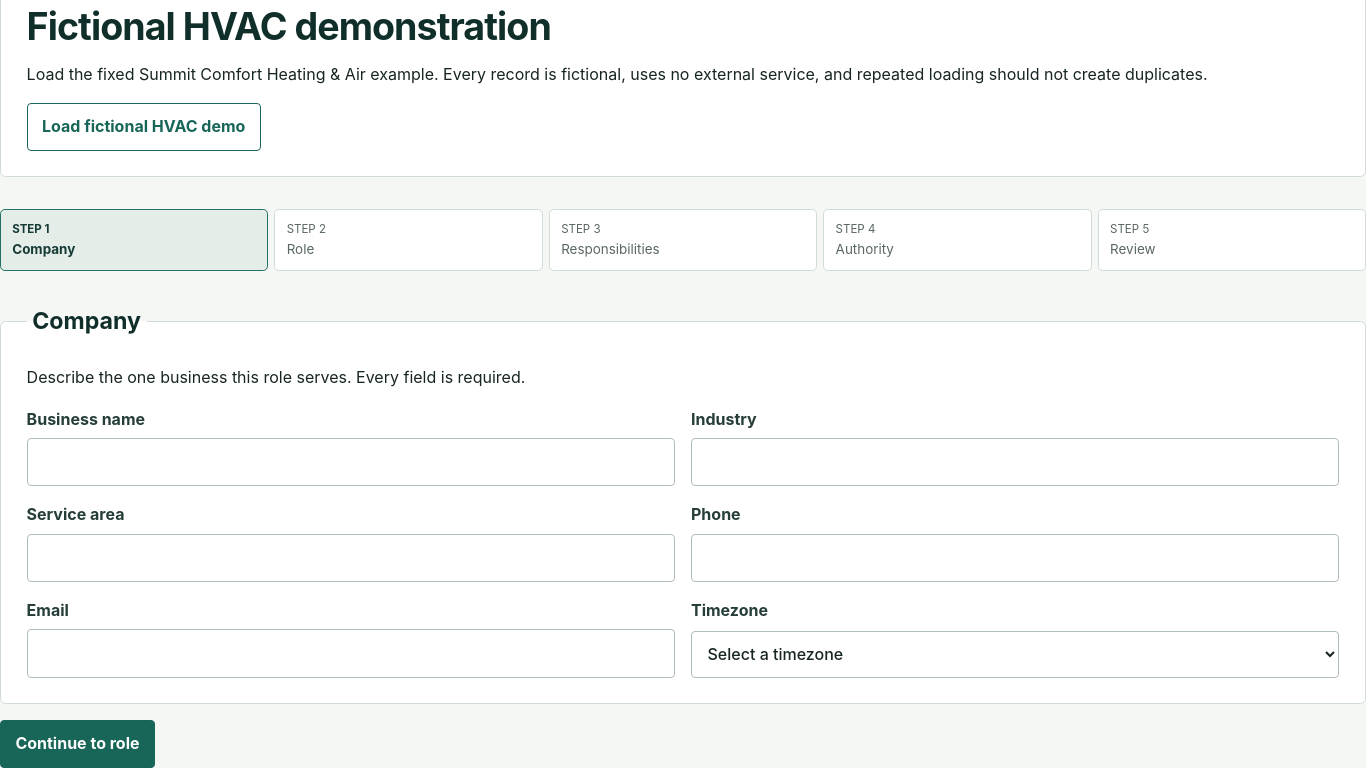
it: Phase 1 setup flow › keeps the owner on the company step and shows inline required errors
(page scrolled)
Click the button "Continue to role" at (77, 744), box [0, 720, 155, 767]
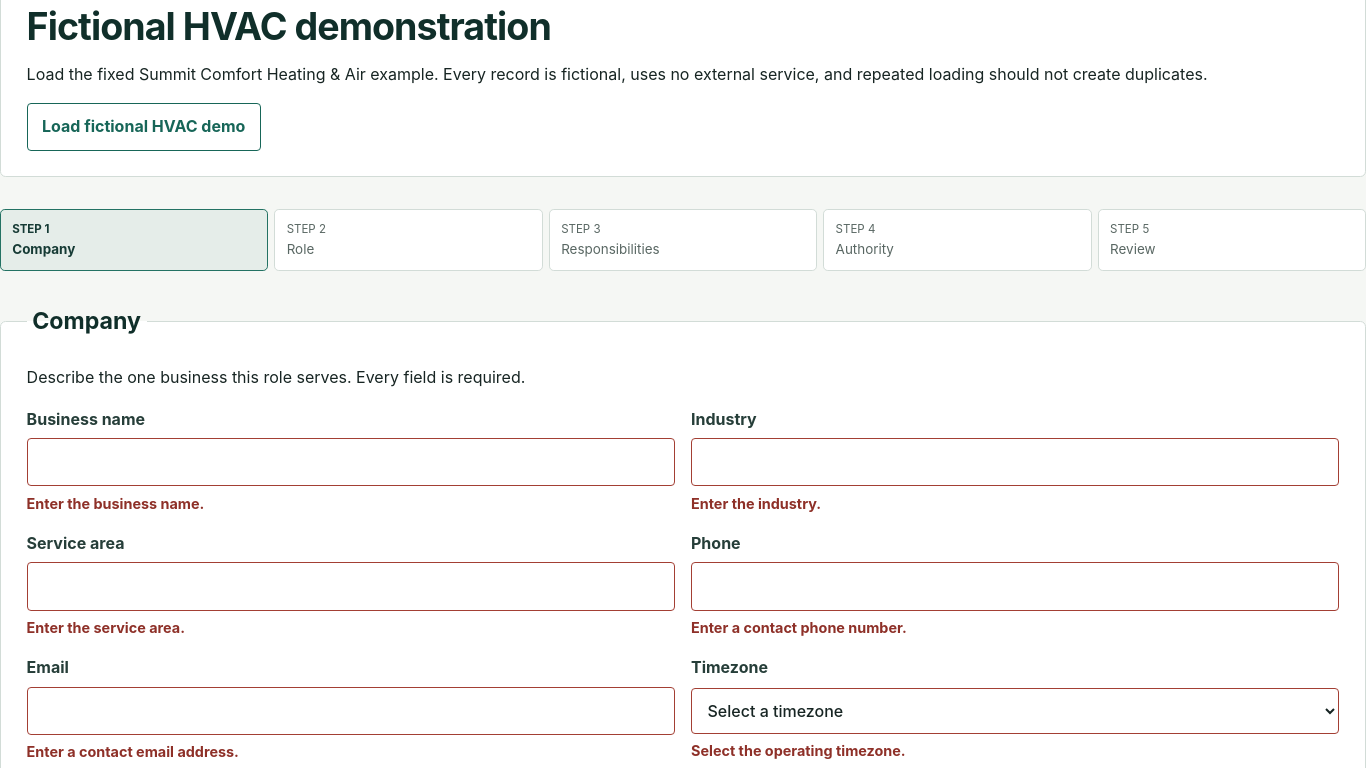
Expected: the text "Enter the business name." is shown, [27, 495, 204, 512]
Expected: the text "Enter the industry." is shown, [691, 495, 821, 512]
